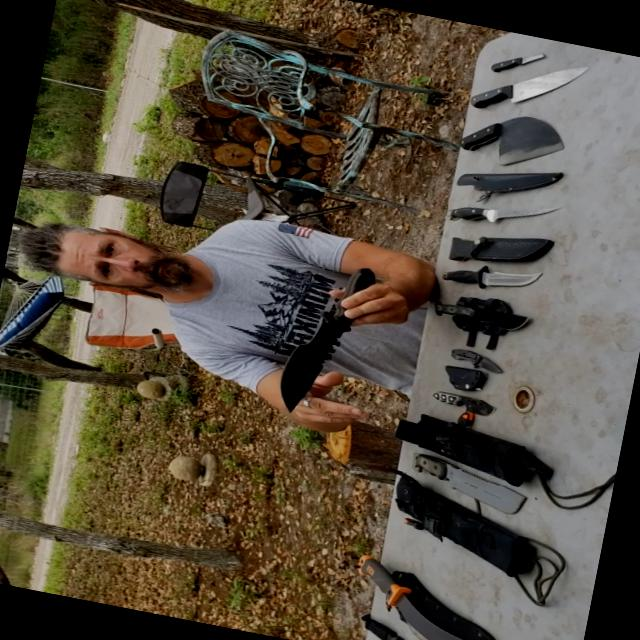knife: (321, 527, 548, 639), (282, 235, 406, 426), (444, 31, 590, 127), (397, 437, 551, 522), (428, 240, 572, 310), (438, 98, 564, 174), (421, 282, 562, 342), (436, 180, 568, 238), (442, 332, 538, 386), (400, 376, 516, 418), (471, 34, 552, 82), (349, 610, 450, 639)
